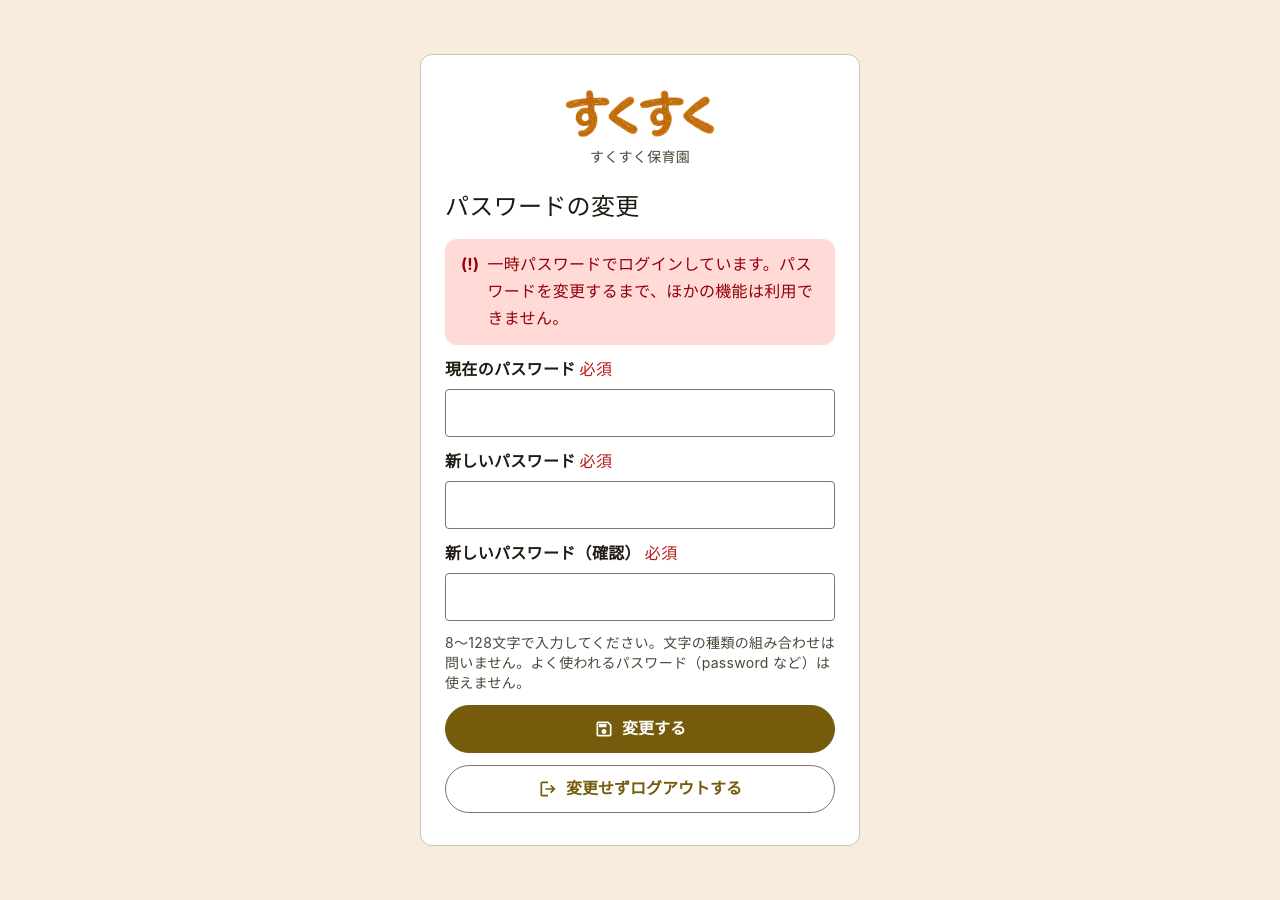
強制のパスワード変更・規約への同意の経路（GitHub Issue #178 の 4） › 一時パスワードから変更すると、任意の変更の画面ではなくダッシュボードへ進む
The width and height of the screenshot is (1280, 900).
Type "temp0901" into the password field labelled "現在のパスワード" at (640, 413), box [445,389,835,437]
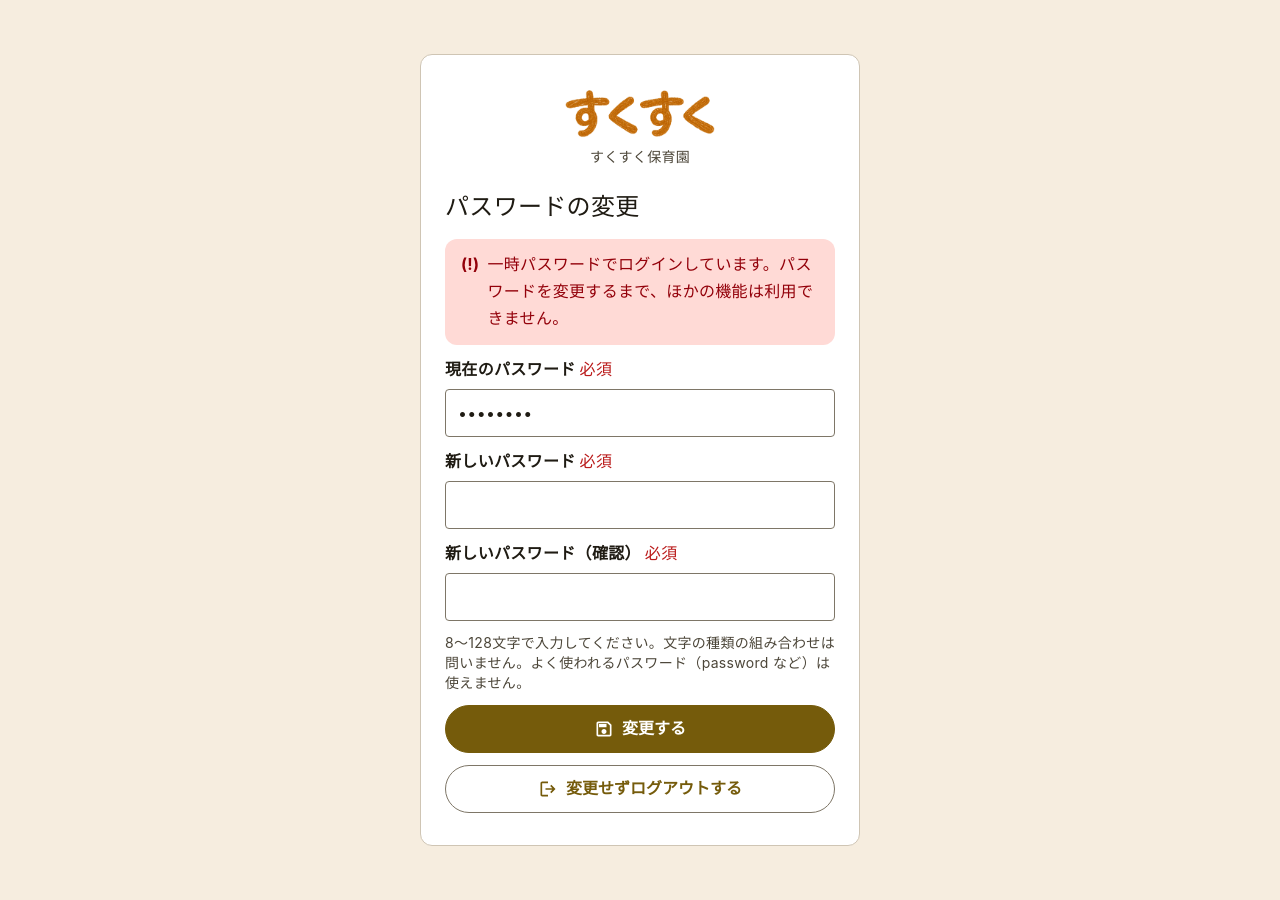
Type "murata-5678" into the password field labelled "新しいパスワード" at (640, 505), box [445,481,835,529]
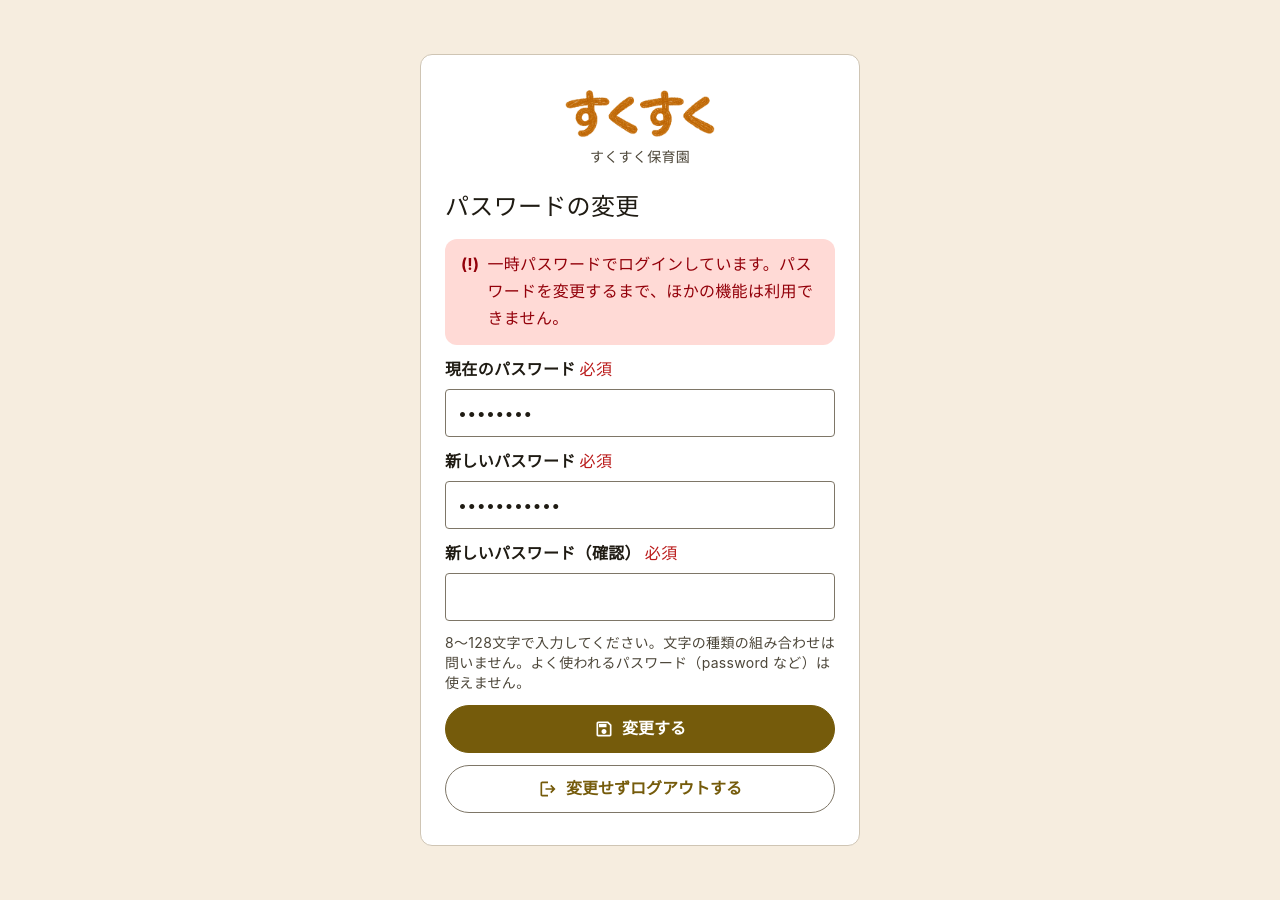
Type "murata-5678" into the password field labelled "新しいパスワード（確認）" at (640, 597), box [445,573,835,621]
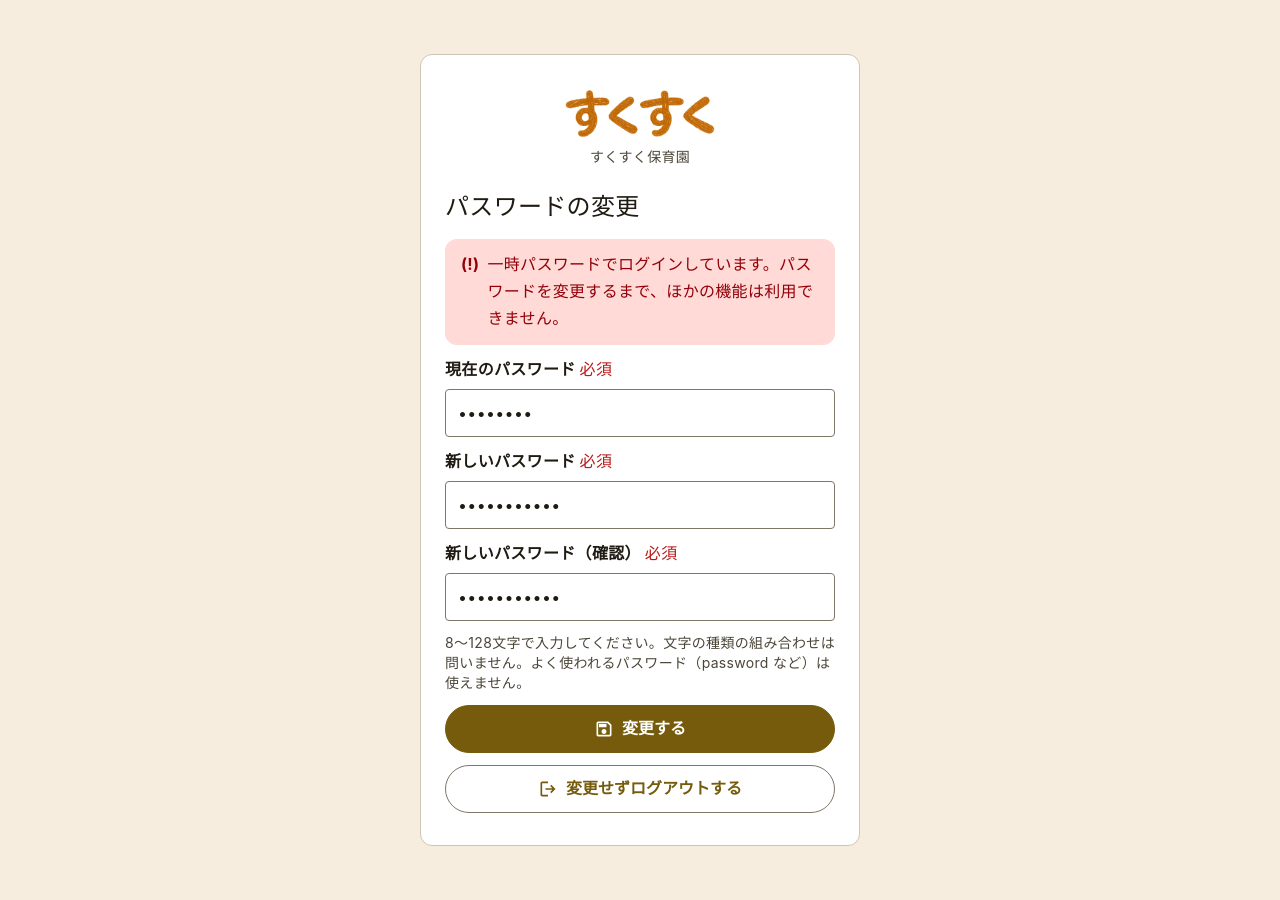
Click the button "変更する" at (640, 729), box [445,705,835,753]
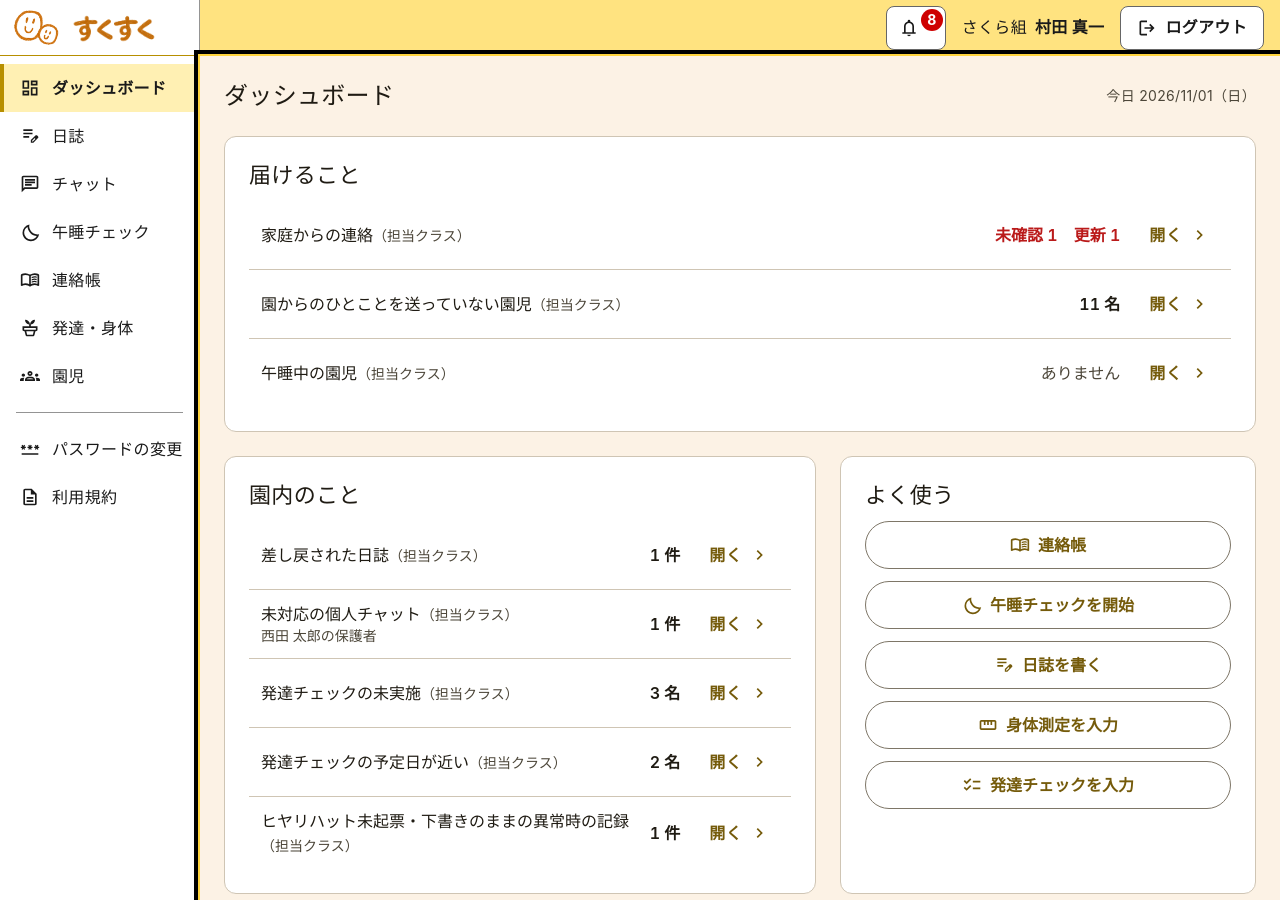
Expected: the heading "ダッシュボード" is shown, [224,80,394,112]
